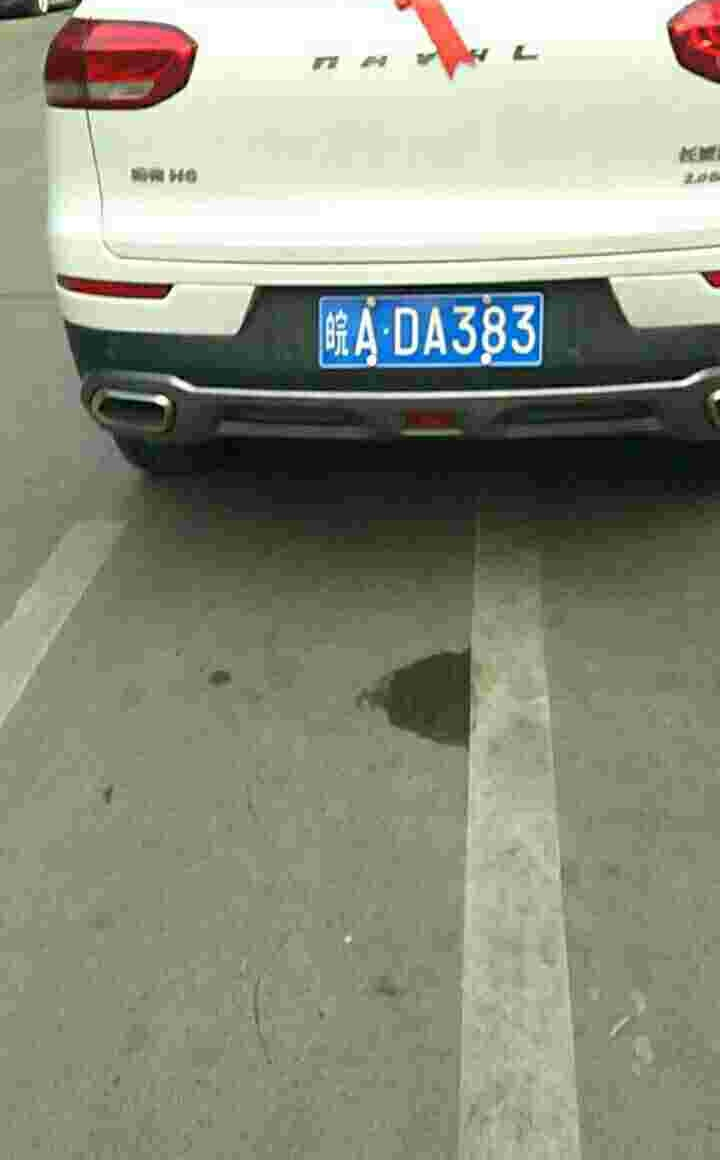license_plate: (307, 292, 542, 373)
